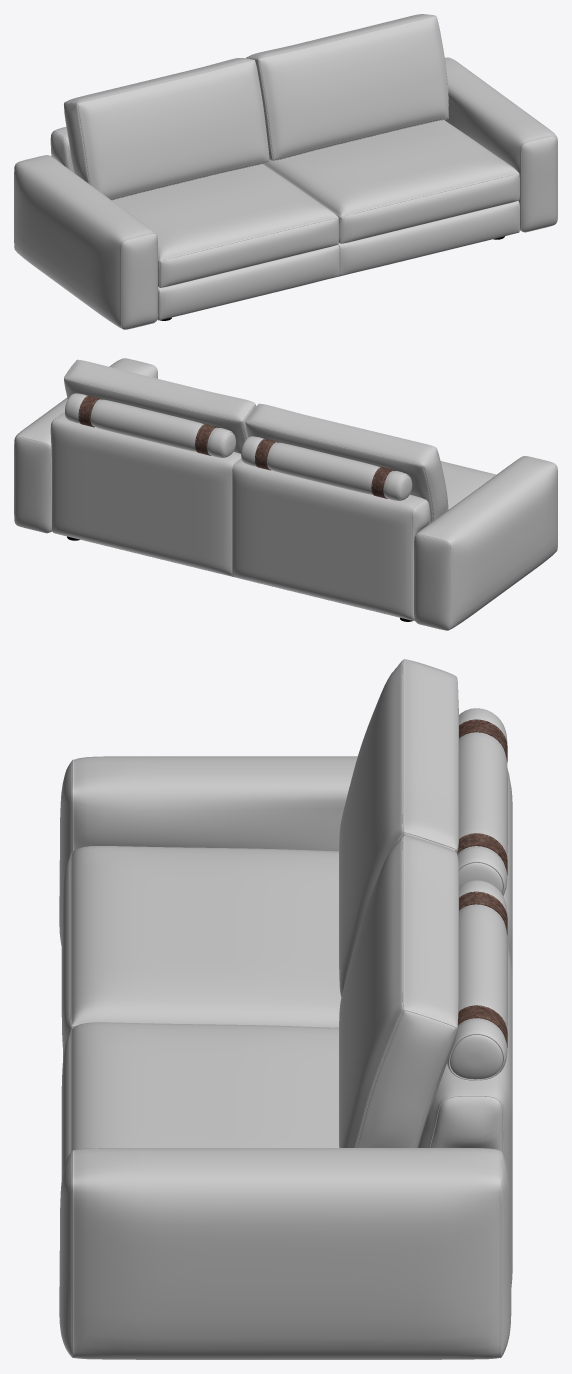
3 views of the same model, one above another, from view 1: azimuth 30°, elevation 25°; view 2: azimuth 150°, elevation 25°; view 3: azimuth 270°, elevation 25° (orthographic). The views are drawn at different scales.
Visible parts, largest first — view 1: Material-Tessuto_EXP; view 2: Material-Tessuto_EXP, Material-Cuoio; view 3: Material-Tessuto_EXP, Material-Cuoio.
Boxes of the visible parts, x1,y1,x2,y2 form: Material-Tessuto_EXP: (14,14,557,329); Material-Tessuto_EXP: (14,358,557,630); Material-Cuoio: (78,395,394,498); Material-Tessuto_EXP: (59,659,512,1359); Material-Cuoio: (457,719,507,1047).
Size of the model in its own units: 2.57 by 0.8915 by 1.11.
